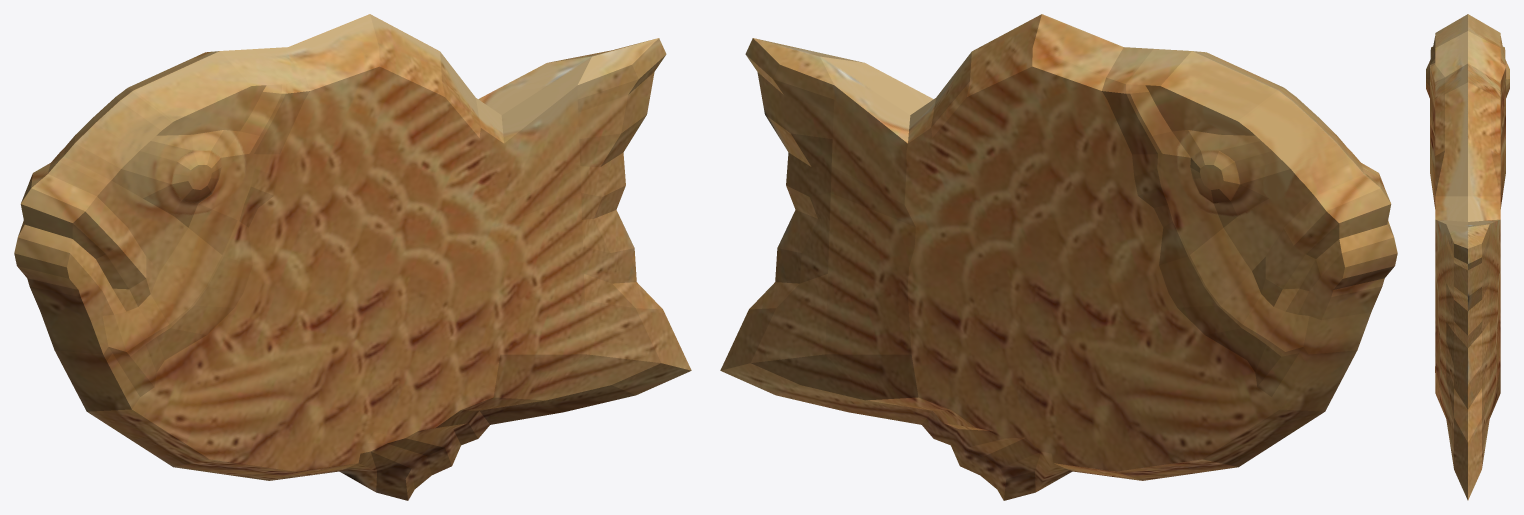
File: Fisch_Baked.fbx
The picture shows the model from 3 angles, left to right: view 1: azimuth 30°, elevation 25°; view 2: azimuth 150°, elevation 25°; view 3: azimuth 270°, elevation 25°; orthographic projection. The views are drawn at different scales.
Parts seen in each view (by area): view 1: Taijaki 1; view 2: Taijaki 1; view 3: Taijaki 1.
Boxes of the visible parts, bbox=[...] form: Taijaki 1: bbox=[14, 14, 691, 500]; Taijaki 1: bbox=[720, 14, 1397, 500]; Taijaki 1: bbox=[1426, 14, 1509, 500].
Size of the model in its own units: 65.99 by 46.19 by 10.01.
1 material, 1 textured.
